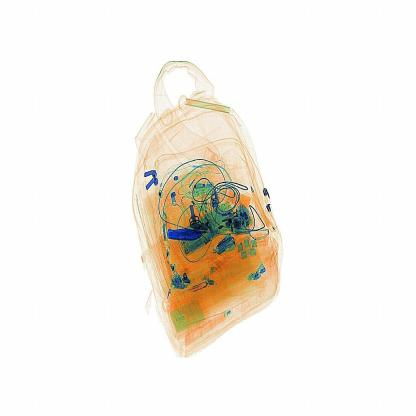knife: (165, 226, 210, 247)
